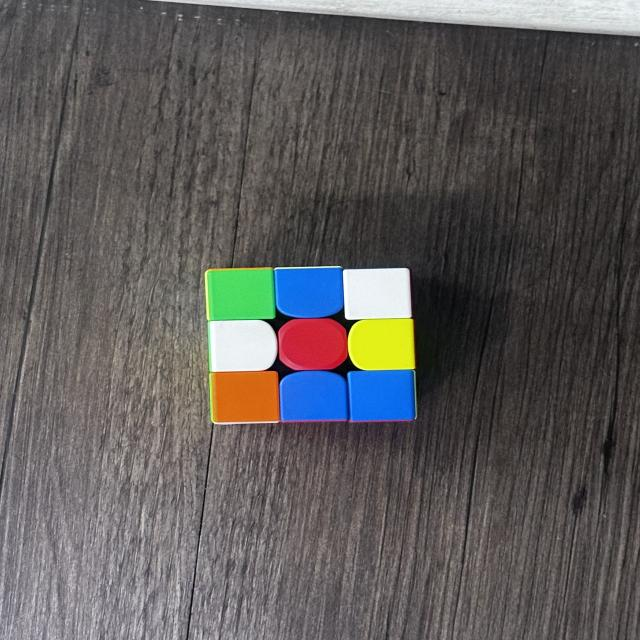sticker: (340, 266, 415, 323), (276, 316, 350, 372), (272, 265, 346, 321), (209, 370, 283, 425), (206, 319, 280, 374), (204, 268, 277, 322), (347, 368, 416, 424), (279, 370, 350, 423), (347, 318, 416, 372)
